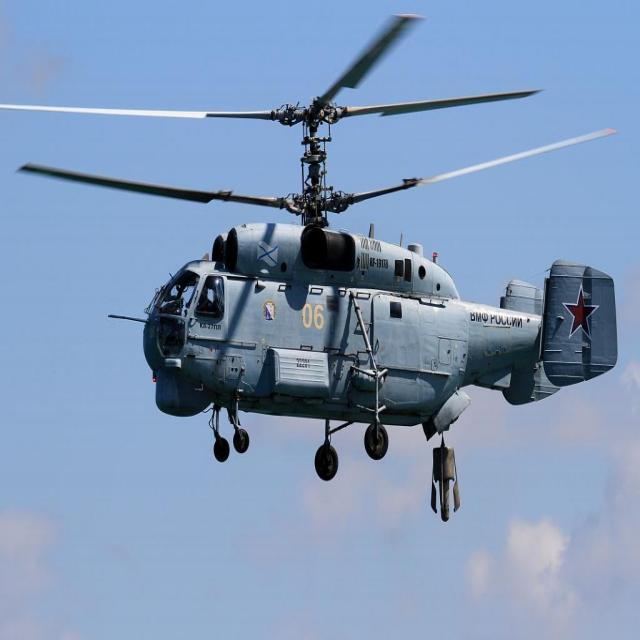MIL_HELO: (0, 14, 621, 528)
